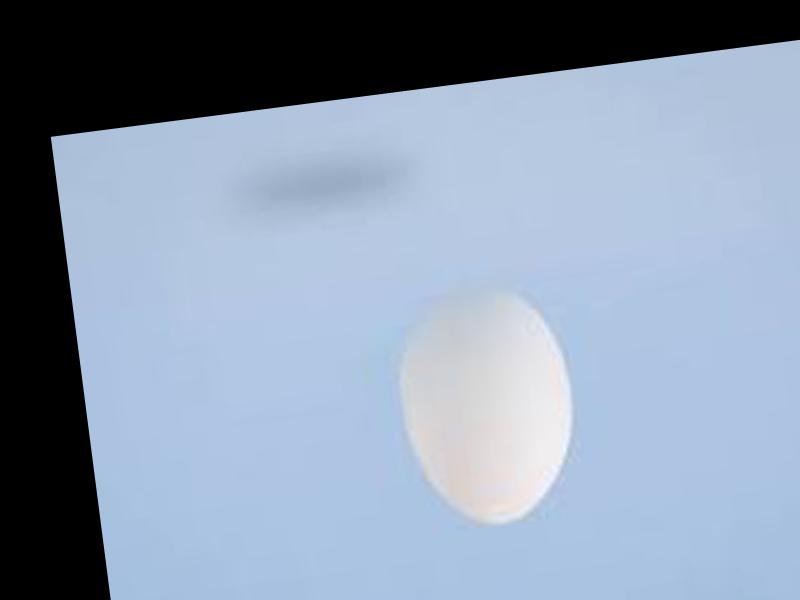Eggs: (386, 275, 586, 535)
